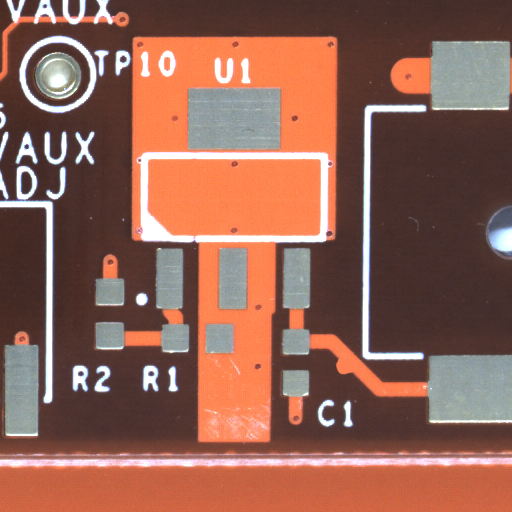Spur: (343, 366, 360, 383)
